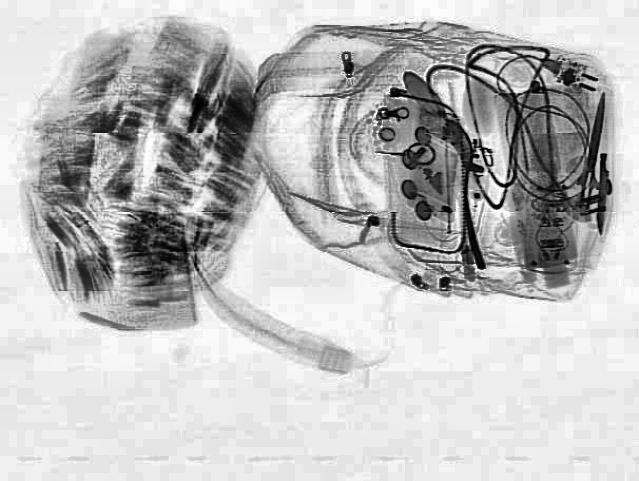Knife: (581, 92, 605, 204), (594, 152, 610, 234)
